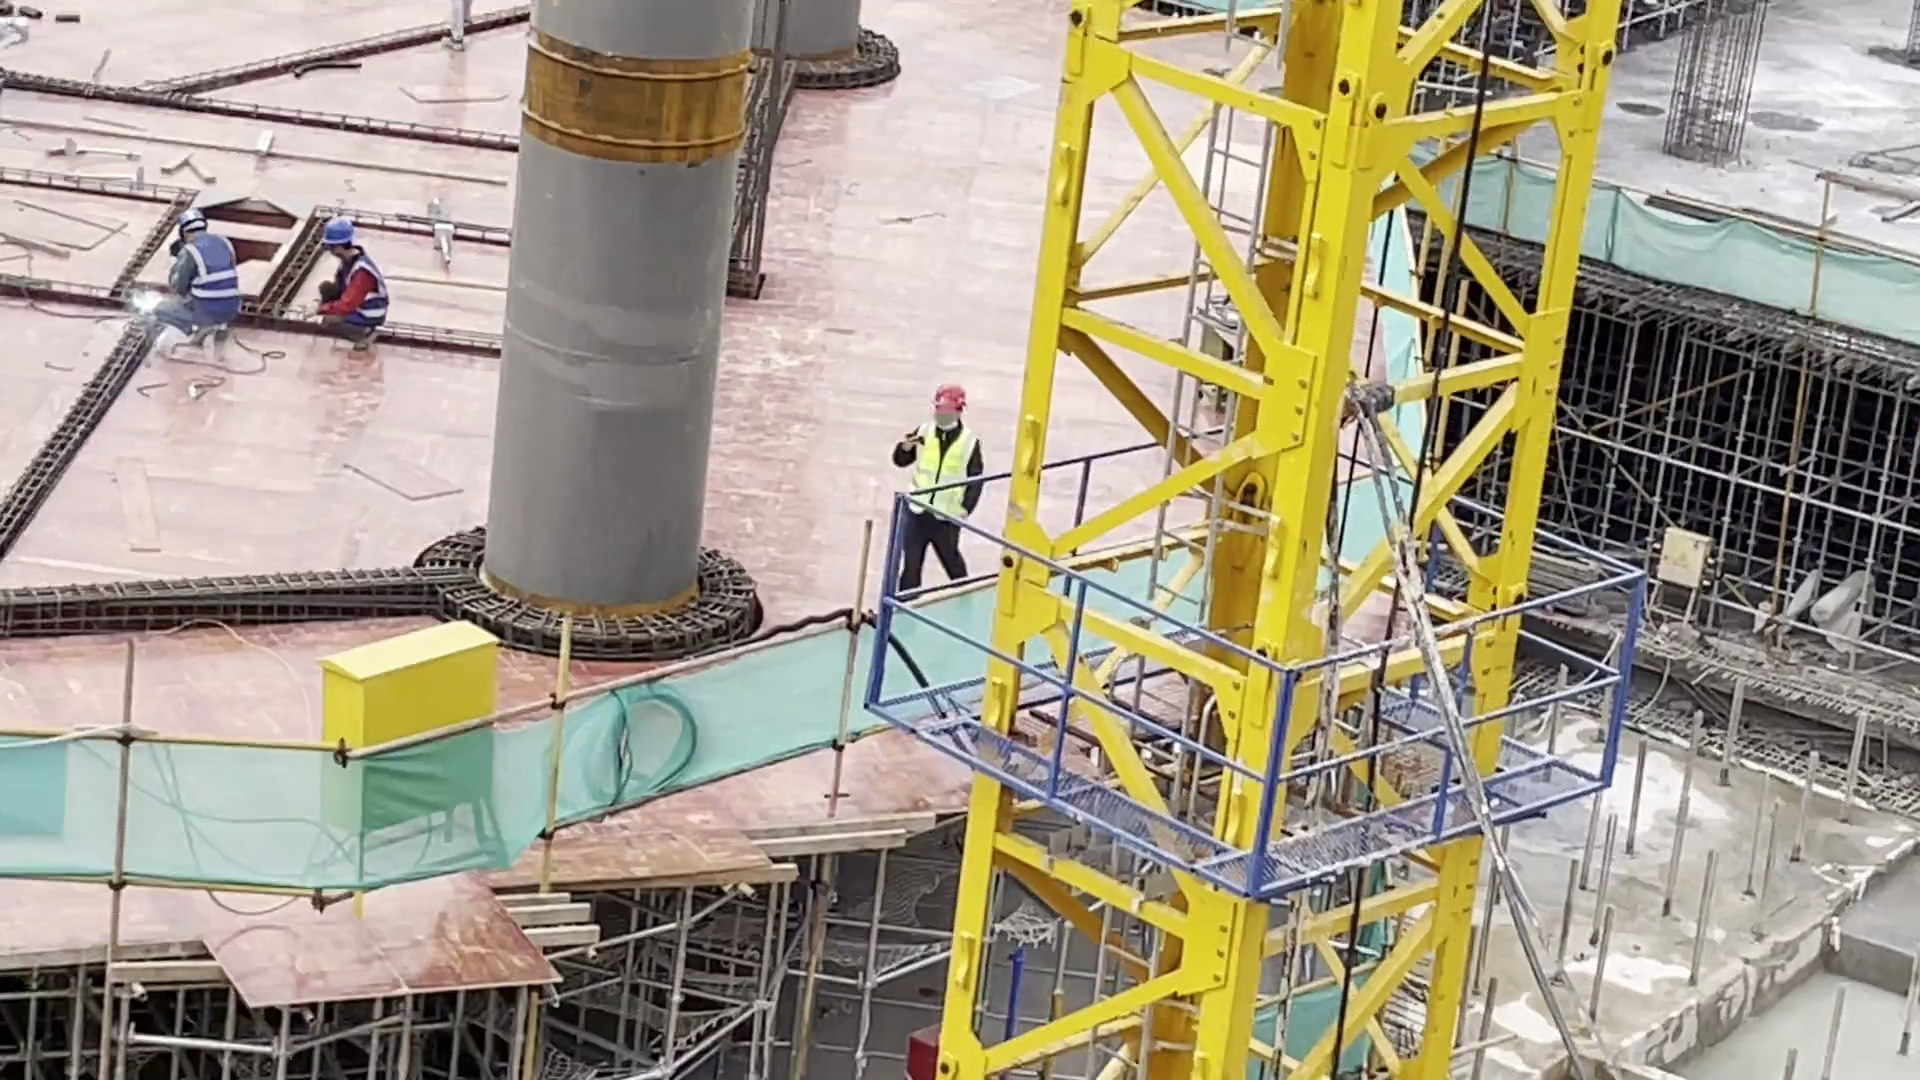ebox: (313, 612, 502, 921)
helmet: (932, 382, 970, 412), (319, 215, 354, 247), (176, 208, 206, 234)
person: (888, 379, 980, 597), (158, 208, 244, 346), (313, 216, 393, 356)
vest: (912, 414, 980, 528), (1646, 522, 1718, 622), (183, 235, 243, 321), (333, 255, 390, 326)
